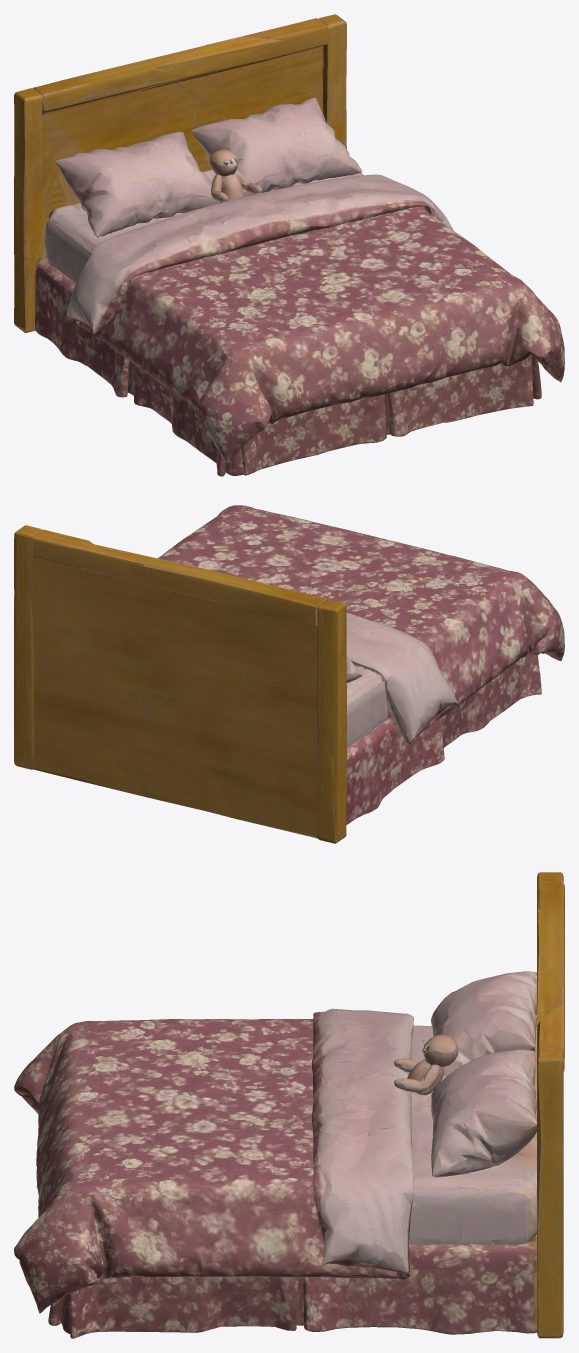
File: bed.glb
3 renders of one model, top to bottom at view 1: azimuth 30°, elevation 25°; view 2: azimuth 150°, elevation 25°; view 3: azimuth 270°, elevation 25°, orthographic. The views are drawn at different scales.
Bounding box in the file's own units: 1.74 × 1.07 × 1.9.
1 material, 1 textured.
